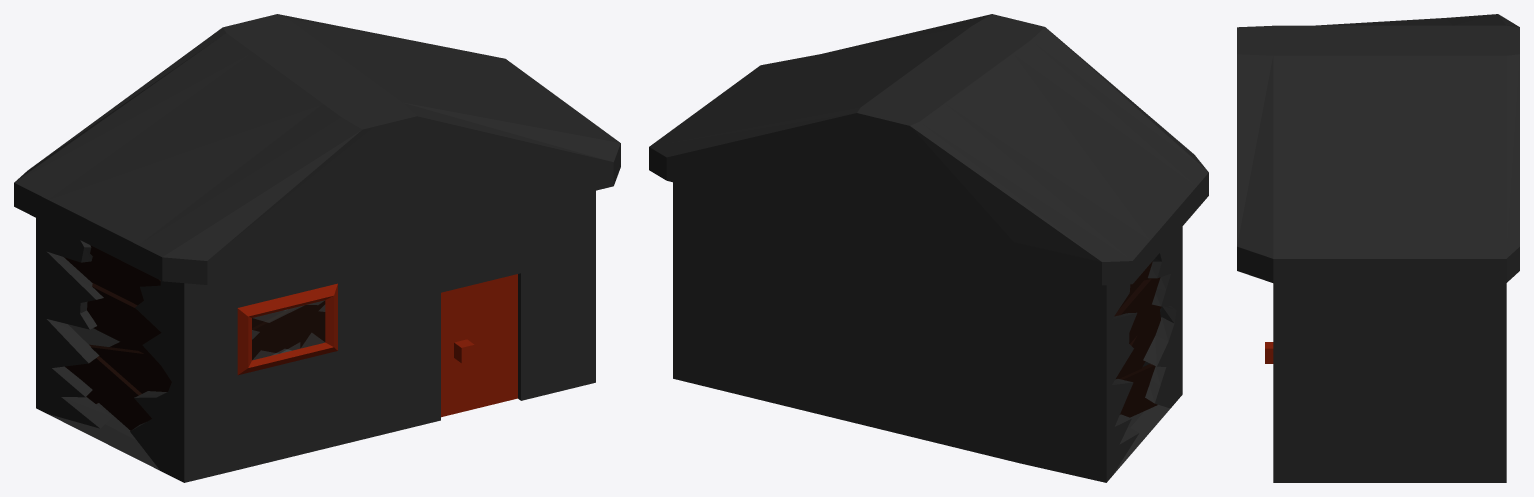
Rendered from home2@out_close.FBX.
The picture shows the model from 3 angles, left to right: view 1: azimuth 30°, elevation 25°; view 2: azimuth 150°, elevation 25°; view 3: azimuth 270°, elevation 25°; orthographic projection. The views are drawn at different scales.
Visible parts, largest first — view 1: Box001, Object001; view 2: Box001; view 3: Box001.
Boxes of the visible parts, x1=… form: Box001: x1=14, y1=14, x2=620, y2=482; Object001: x1=441, y1=274, x2=517, y2=417; Box001: x1=649, y1=14, x2=1208, y2=482; Box001: x1=1237, y1=14, x2=1519, y2=482.
Bounding box in the file's own units: 94.57 × 59.7 × 46.18.
